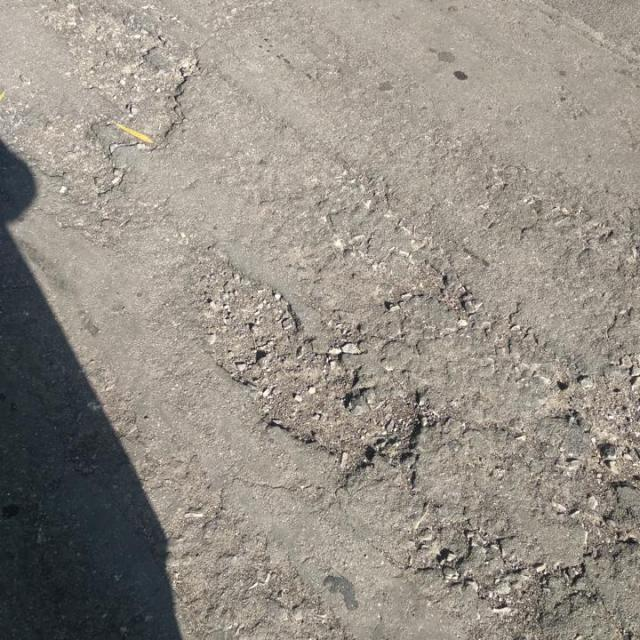Pothole: (34, 0, 205, 146), (247, 350, 434, 480), (176, 256, 311, 380), (25, 116, 125, 206)
